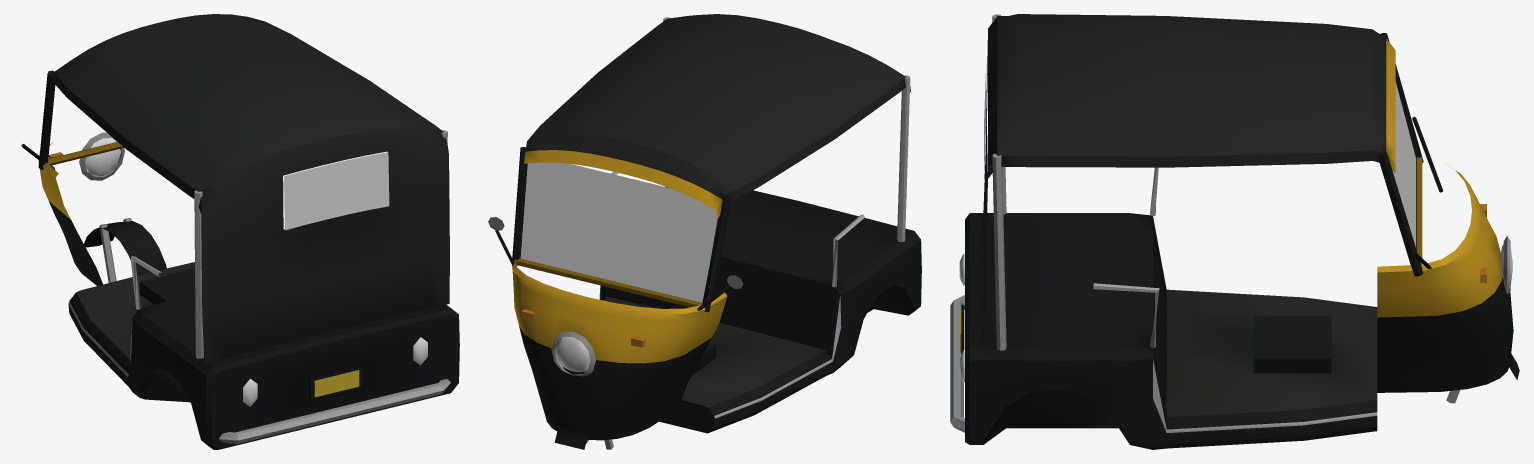
The model's file is auto.glb.
3 views of the same model, side by side, from view 1: azimuth 30°, elevation 25°; view 2: azimuth 150°, elevation 25°; view 3: azimuth 270°, elevation 25° (orthographic). The views are drawn at different scales.
Parts seen in each view (by area): view 1: body, glass, lamps, tail; view 2: body, glass, lamps; view 3: body, glass.
Part boxes in pixels (<box>): body: <box>21,14,459,449</box>; glass: <box>284,152,389,230</box>; lamps: <box>85,138,120,176</box>; tail: <box>243,337,427,406</box>; body: <box>488,14,921,449</box>; glass: <box>520,162,717,302</box>; lamps: <box>556,337,590,372</box>; body: <box>950,14,1519,449</box>; glass: <box>984,64,1415,247</box>.
Bounding box in the file's own units: 1.54 × 1.67 × 2.49.
